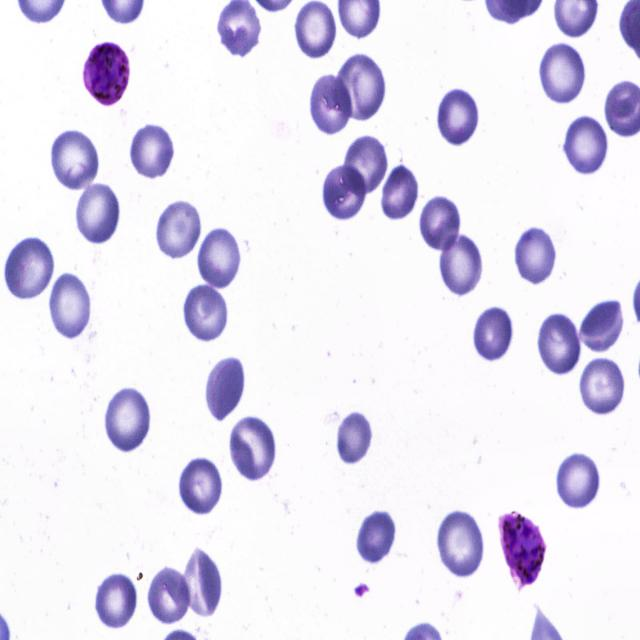red blood cell: (435, 510, 488, 579), (3, 233, 54, 303), (338, 53, 387, 124), (538, 40, 589, 106), (180, 544, 223, 620), (436, 230, 484, 298), (229, 416, 276, 483), (50, 127, 99, 191), (555, 447, 603, 511), (104, 388, 150, 453), (342, 135, 390, 196), (578, 358, 628, 416), (204, 353, 246, 422), (536, 311, 581, 375), (49, 272, 91, 340), (156, 199, 202, 261), (176, 455, 224, 514), (197, 227, 242, 289), (76, 183, 120, 245), (130, 122, 176, 181), (562, 116, 608, 175), (322, 164, 368, 222), (310, 74, 353, 136), (437, 87, 480, 148), (472, 302, 515, 363), (183, 284, 227, 343), (579, 299, 625, 355), (516, 225, 558, 286), (418, 194, 462, 252), (294, 1, 338, 58), (94, 571, 137, 629), (148, 567, 191, 624), (379, 164, 418, 222), (336, 410, 374, 466), (357, 510, 396, 564)
schizont: (498, 512, 546, 590), (82, 40, 132, 108)
